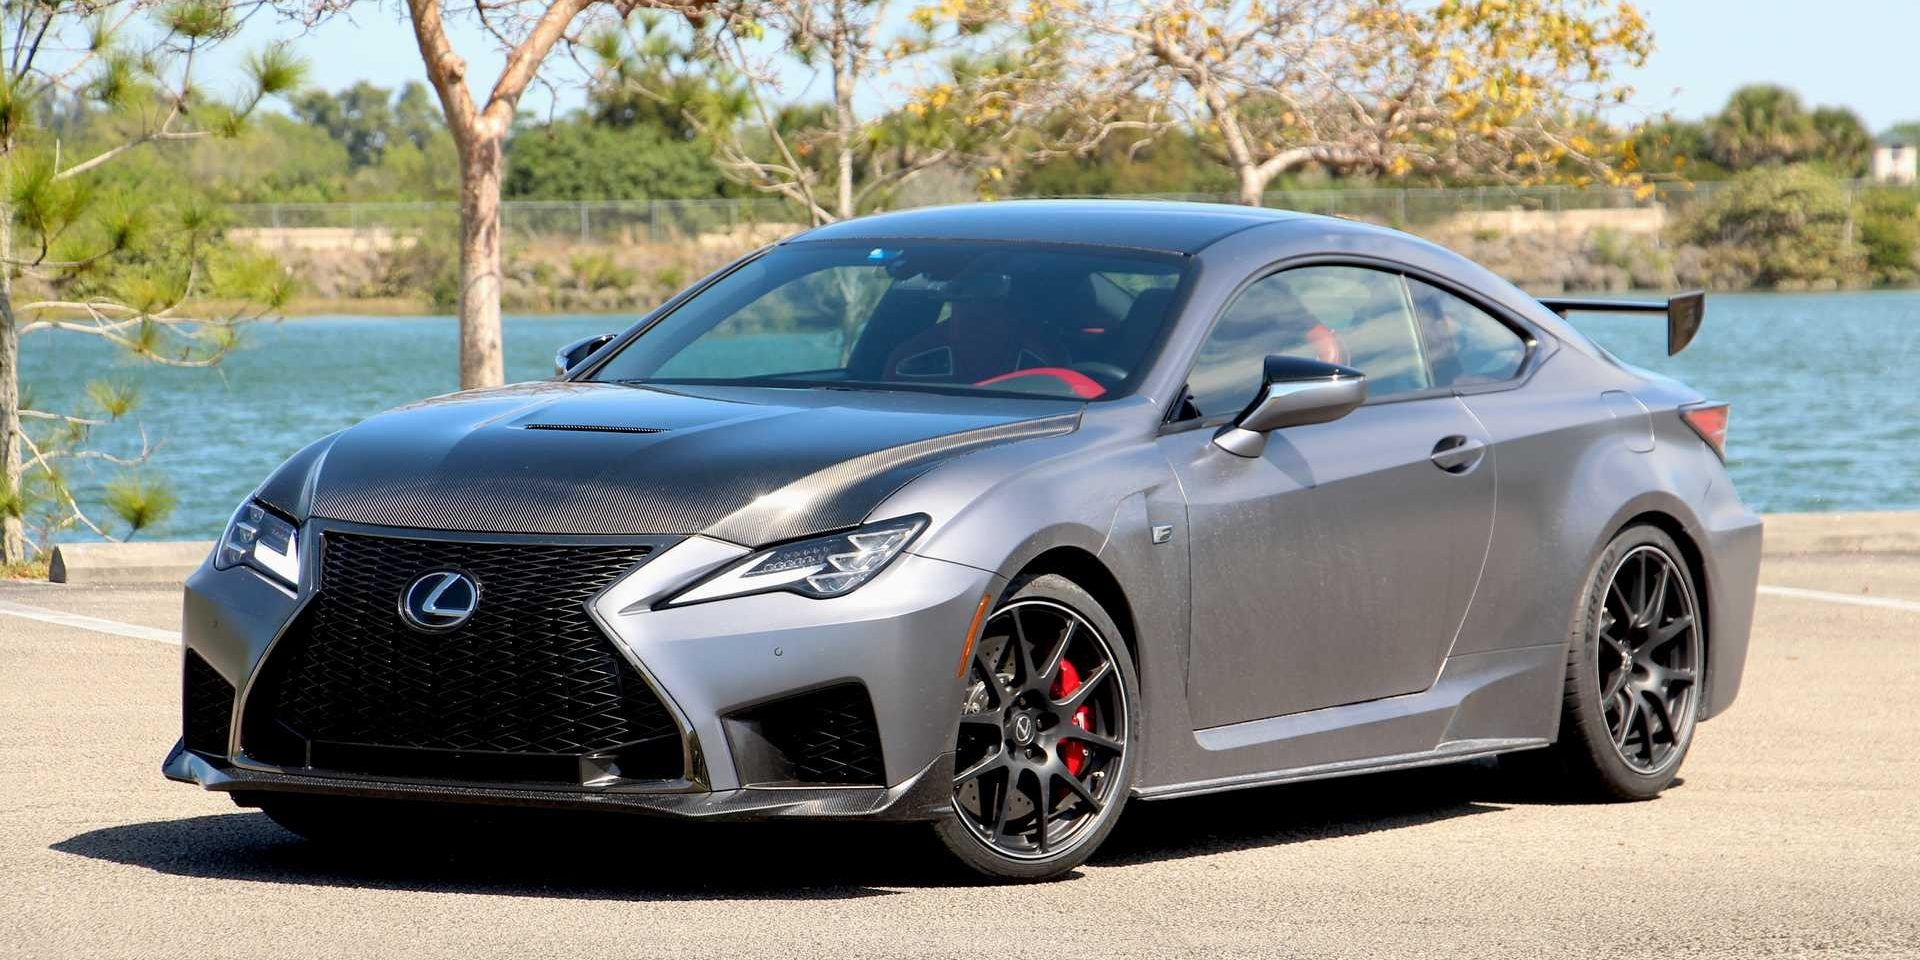headlight: (640, 485, 945, 591), (212, 471, 322, 590)
wheel: (924, 551, 1164, 883), (1551, 498, 1736, 802)
